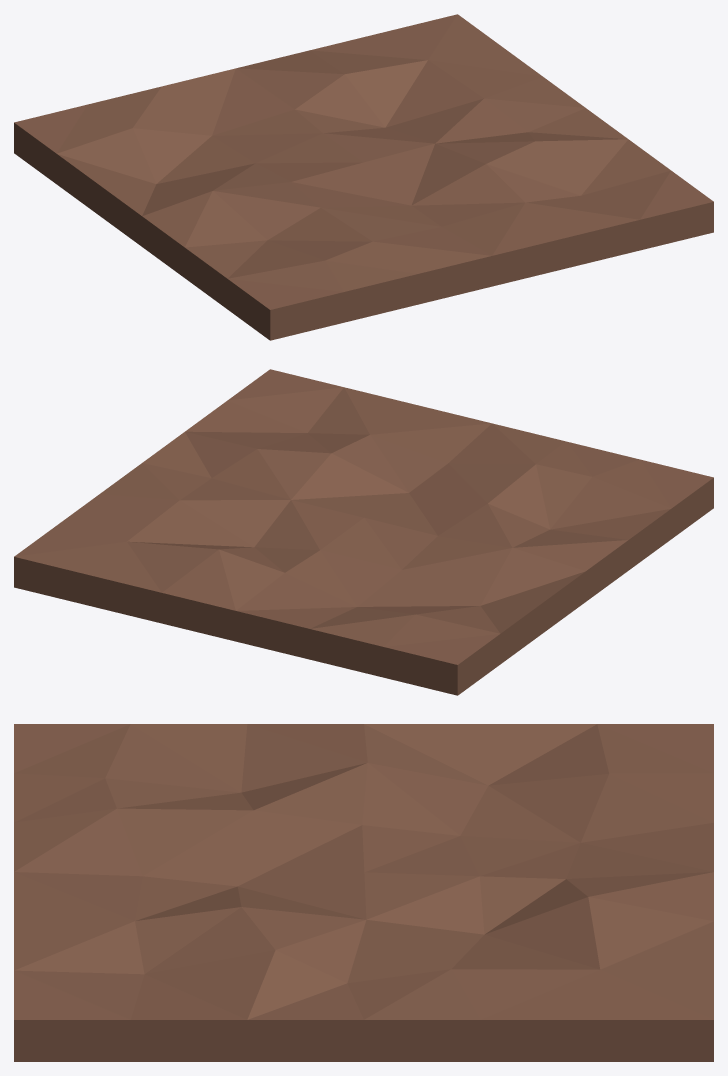
The model's file is Hill.fbx.
3 renders of one model, top to bottom at view 1: azimuth 30°, elevation 25°; view 2: azimuth 150°, elevation 25°; view 3: azimuth 270°, elevation 25°, orthographic. The views are drawn at different scales.
Visible parts, largest first — view 1: Hill_Block; view 2: Hill_Block; view 3: Hill_Block.
Boxes of the visible parts, <box> form: Hill_Block: <box>14,14,713,340</box>; Hill_Block: <box>14,369,713,695</box>; Hill_Block: <box>14,724,713,1061</box>.
Bounding box in the file's own units: 200 × 18.59 × 200.
